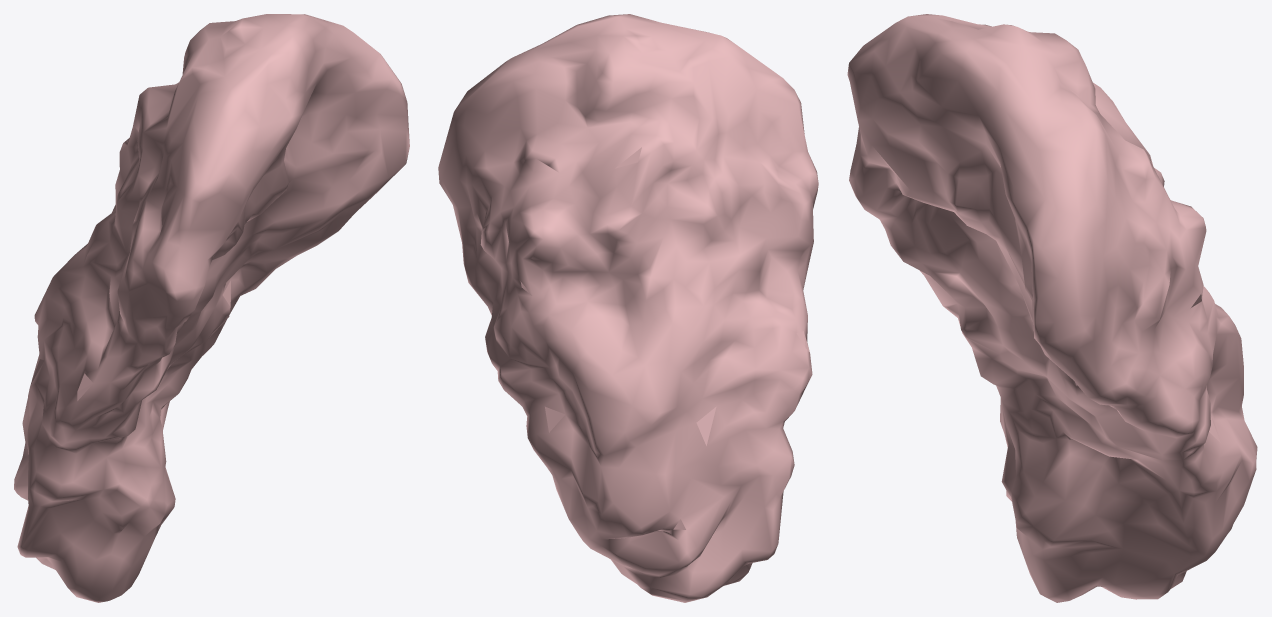
Rendered from 3d-vh-f-palatine-tonsil-r-20.glb.
The picture shows the model from 3 angles, left to right: view 1: azimuth 30°, elevation 25°; view 2: azimuth 150°, elevation 25°; view 3: azimuth 270°, elevation 25°; orthographic projection. The views are drawn at different scales.
Visible parts, largest first — view 1: VH_F_palatine_tonsil_R; view 2: VH_F_palatine_tonsil_R; view 3: VH_F_palatine_tonsil_R.
Boxes of the visible parts, x1,y1,x2,y2 form: VH_F_palatine_tonsil_R: (14, 14, 409, 602); VH_F_palatine_tonsil_R: (438, 14, 818, 602); VH_F_palatine_tonsil_R: (847, 14, 1257, 602).
Bounding box in the file's own units: 0.0168 × 0.0239 × 0.0139.
